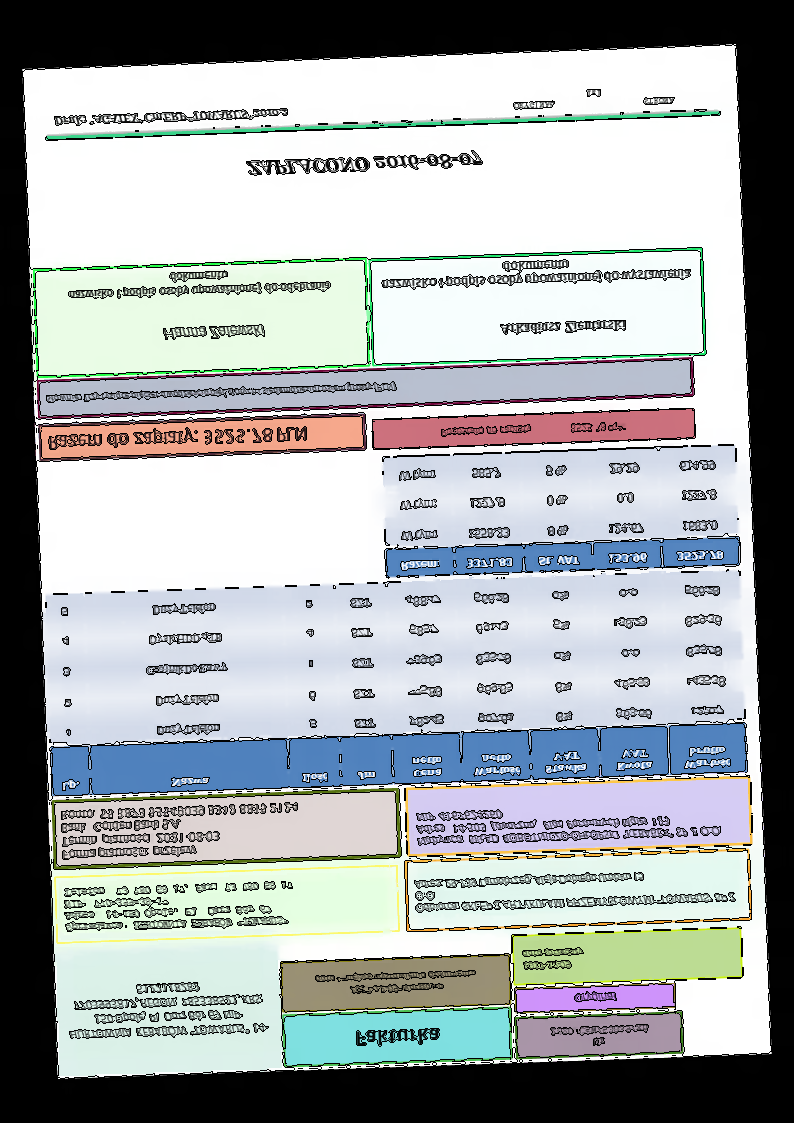Table: (43, 568, 749, 799), (380, 446, 741, 580)
TextBox: (410, 863, 739, 919), (411, 796, 726, 852), (56, 800, 302, 863), (59, 876, 297, 938), (65, 974, 271, 1044), (378, 253, 695, 297), (64, 263, 336, 306), (41, 378, 399, 410), (42, 422, 310, 459), (243, 145, 487, 183), (50, 102, 294, 130), (310, 966, 480, 1002), (510, 82, 677, 114), (435, 417, 631, 444), (497, 313, 630, 340), (548, 1020, 654, 1052), (158, 319, 267, 349), (349, 1025, 443, 1052), (518, 942, 586, 975), (571, 989, 621, 1008)
